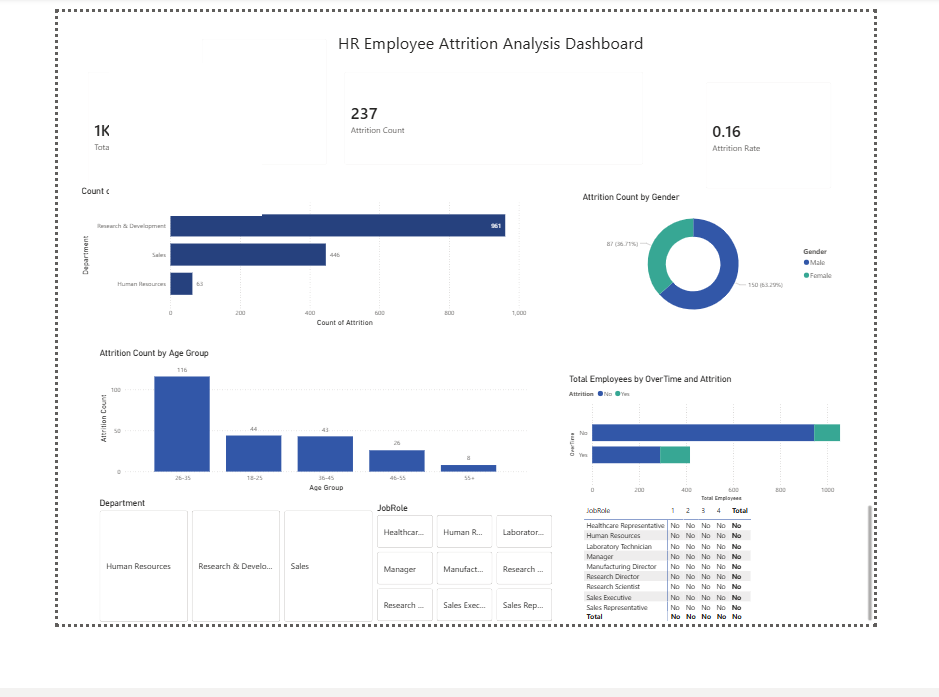

This screenshot's page, from the dashboard's own definition file:
{"tool":"powerbi","page":{"name":"Page 1","canvas":[1600,1200],"ordinal":0},"visuals":[{"type":"cardVisual","fields":{"Data":["WA_Fn-UseC_-HR-Employee-Attrition.Total Employees"]},"box":[40,100,277.5,280],"z":0},{"type":"cardVisual","fields":{"Data":["WA_Fn-UseC_-HR-Employee-Attrition.Attrition Count"]},"box":[264.6,34,279.7,281.6],"z":1000},{"type":"cardVisual","fields":{"Data":["WA_Fn-UseC_-HR-Employee-Attrition.Attrition Rate"]},"box":[1252.6,119.3,280.3,242.6],"z":2000},{"type":"clusteredBarChart","fields":{"Y":["CountNonNull(WA_Fn-UseC_-HR-Employee-Attrition.Attrition)"],"Category":["WA_Fn-UseC_-HR-Employee-Attrition.Department"]},"box":[39.8,342,882.8,280.3],"z":3000},{"type":"donutChart","fields":{"Category":["WA_Fn-UseC_-HR-Employee-Attrition.Gender"],"Y":["WA_Fn-UseC_-HR-Employee-Attrition.Attrition Count"]},"box":[1024,351.9,509,262.5],"z":4000},{"type":"clusteredColumnChart","fields":{"Category":["WA_Fn-UseC_-HR-Employee-Attrition.Age Group"],"Y":["WA_Fn-UseC_-HR-Employee-Attrition.Attrition Count"]},"box":[75,657.5,847.5,285],"z":5000},{"type":"barChart","fields":{"Category":["WA_Fn-UseC_-HR-Employee-Attrition.OverTime"],"Y":["WA_Fn-UseC_-HR-Employee-Attrition.Total Employees"],"Series":["WA_Fn-UseC_-HR-Employee-Attrition.Attrition"]},"box":[996.8,707.8,575.3,254.5],"z":6000},{"type":"advancedSlicerVisual","fields":{"Values":["WA_Fn-UseC_-HR-Employee-Attrition.Department"]},"box":[100,100,300,300],"z":7000},{"type":"pivotTable","fields":{"Rows":["WA_Fn-UseC_-HR-Employee-Attrition.JobRole"],"Columns":["WA_Fn-UseC_-HR-Employee-Attrition.JobSatisfaction"],"Values":["WA_Fn-UseC_-HR-Employee-Attrition.Attrition Count"]},"box":[100,100,300,300],"z":9000},{"type":"textbox","box":[100,100,300,300],"z":10000},{"type":"textbox","box":[100,100,300,300],"z":11000},{"type":"textbox","box":[544.8,33.8,620.3,65.6],"z":12000},{"type":"advancedSlicerVisual","fields":{"Values":["WA_Fn-UseC_-HR-Employee-Attrition.Department"]},"box":[75,952.5,545,247.5],"z":12001},{"type":"advancedSlicerVisual","fields":{"Values":["WA_Fn-UseC_-HR-Employee-Attrition.JobRole"]},"box":[620,962.5,355,237.5],"z":12002},{"type":"pivotTable","fields":{"Rows":["WA_Fn-UseC_-HR-Employee-Attrition.JobRole"],"Columns":["WA_Fn-UseC_-HR-Employee-Attrition.JobSatisfaction"],"Values":["Min(WA_Fn-UseC_-HR-Employee-Attrition.Attrition)"]},"box":[1025,962.5,575,237.5],"z":12003},{"type":"cardVisual","fields":{"Data":["WA_Fn-UseC_-HR-Employee-Attrition.Attrition Count"]},"box":[545,100,620,216],"z":12004}]}

Visuals, with their boxes in screenshot pixels (x1, y1, x2, y2), scaled from the page's 1600x1200 canvas onto the 939x697 screenshot:
cardVisual - WA_Fn-UseC_-HR-Employee-Attrition.Total Employees: {"left": 23, "top": 58, "right": 186, "bottom": 221}
cardVisual - WA_Fn-UseC_-HR-Employee-Attrition.Attrition Count: {"left": 155, "top": 20, "right": 319, "bottom": 183}
cardVisual - WA_Fn-UseC_-HR-Employee-Attrition.Attrition Rate: {"left": 735, "top": 69, "right": 900, "bottom": 210}
clusteredBarChart - CountNonNull(WA_Fn-UseC_-HR-Employee-Attrition.Attrition) x WA_Fn-UseC_-HR-Employee-Attrition.Department: {"left": 23, "top": 199, "right": 541, "bottom": 361}
donutChart - WA_Fn-UseC_-HR-Employee-Attrition.Gender x WA_Fn-UseC_-HR-Employee-Attrition.Attrition Count: {"left": 601, "top": 204, "right": 900, "bottom": 357}
clusteredColumnChart - WA_Fn-UseC_-HR-Employee-Attrition.Age Group x WA_Fn-UseC_-HR-Employee-Attrition.Attrition Count: {"left": 44, "top": 382, "right": 541, "bottom": 547}
barChart - WA_Fn-UseC_-HR-Employee-Attrition.OverTime x WA_Fn-UseC_-HR-Employee-Attrition.Total Employees: {"left": 585, "top": 411, "right": 923, "bottom": 559}
advancedSlicerVisual - WA_Fn-UseC_-HR-Employee-Attrition.Department: {"left": 59, "top": 58, "right": 235, "bottom": 232}
pivotTable - WA_Fn-UseC_-HR-Employee-Attrition.JobRole x WA_Fn-UseC_-HR-Employee-Attrition.JobSatisfaction: {"left": 59, "top": 58, "right": 235, "bottom": 232}
textbox: {"left": 59, "top": 58, "right": 235, "bottom": 232}
textbox: {"left": 59, "top": 58, "right": 235, "bottom": 232}
textbox: {"left": 320, "top": 20, "right": 684, "bottom": 58}
advancedSlicerVisual - WA_Fn-UseC_-HR-Employee-Attrition.Department: {"left": 44, "top": 553, "right": 364, "bottom": 696}
advancedSlicerVisual - WA_Fn-UseC_-HR-Employee-Attrition.JobRole: {"left": 364, "top": 559, "right": 572, "bottom": 696}
pivotTable - WA_Fn-UseC_-HR-Employee-Attrition.JobRole x WA_Fn-UseC_-HR-Employee-Attrition.JobSatisfaction: {"left": 602, "top": 559, "right": 938, "bottom": 696}
cardVisual - WA_Fn-UseC_-HR-Employee-Attrition.Attrition Count: {"left": 320, "top": 58, "right": 684, "bottom": 184}
